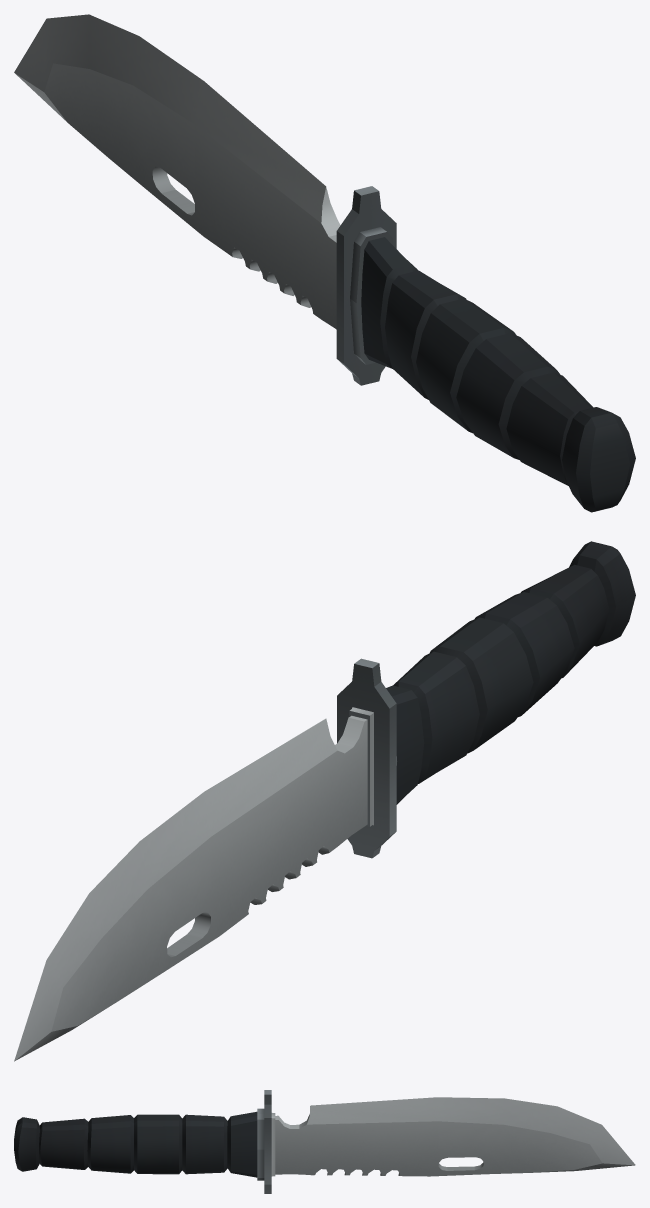
The model's file is KnifeMarine.FBX.
3 views of the same model, one above another, from view 1: azimuth 30°, elevation 25°; view 2: azimuth 150°, elevation 25°; view 3: azimuth 270°, elevation 25° (orthographic). The views are drawn at different scales.
Parts seen in each view (by area): view 1: Knife_Blade01, Knife_Grip2, Knife_Guard; view 2: Knife_Blade01, Knife_Grip2, Knife_Guard; view 3: Knife_Blade01, Knife_Grip2, Knife_Guard.
Boxes of the visible parts, x1,y1,x2,y2 form: Knife_Blade01: [14, 14, 340, 329]; Knife_Grip2: [361, 237, 635, 512]; Knife_Guard: [336, 186, 396, 385]; Knife_Blade01: [14, 715, 367, 1061]; Knife_Grip2: [386, 541, 635, 804]; Knife_Guard: [337, 658, 396, 858]; Knife_Blade01: [275, 1097, 635, 1176]; Knife_Grip2: [14, 1111, 257, 1177]; Knife_Guard: [257, 1090, 275, 1193].
Bounding box in the file's own units: 0.0689 × 0.149 × 0.8464.
